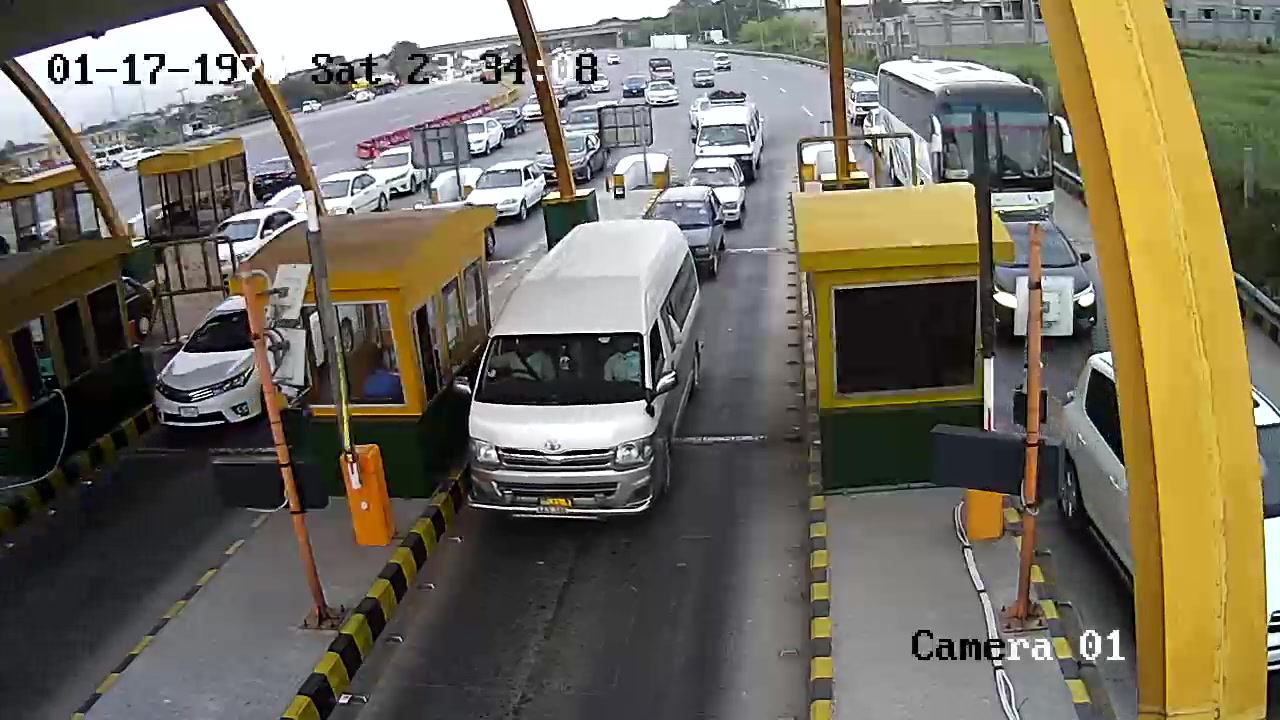F2: (454, 213, 727, 531)
